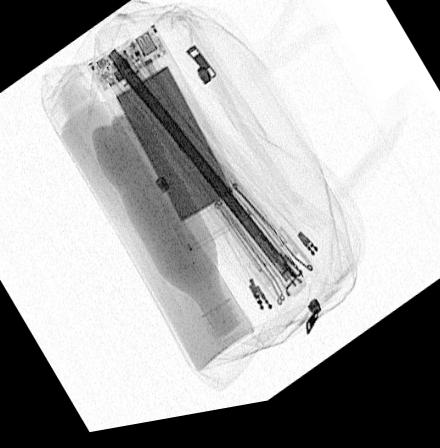Powerbank: (83, 27, 252, 258)
